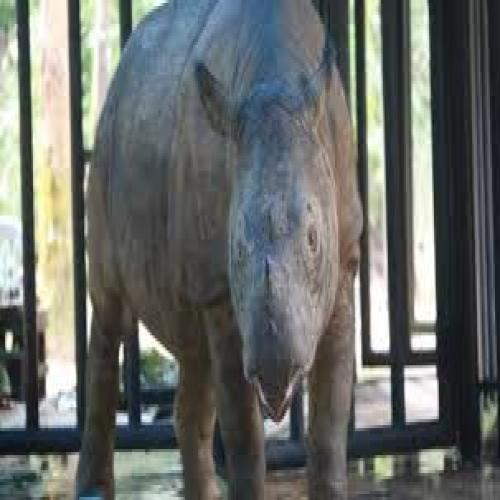rhino-endangered: (77, 0, 364, 500)
